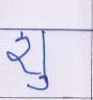u_matra: (27, 76, 51, 91)
